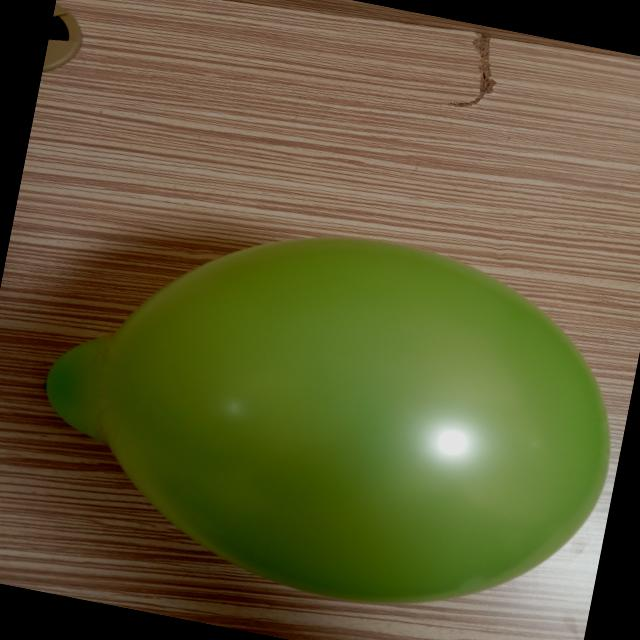balloon: (47, 238, 610, 602)
